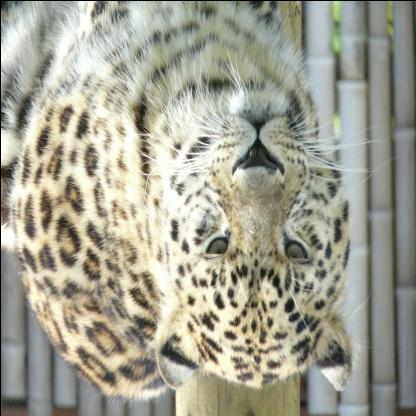leopard: (158, 79, 352, 393)
